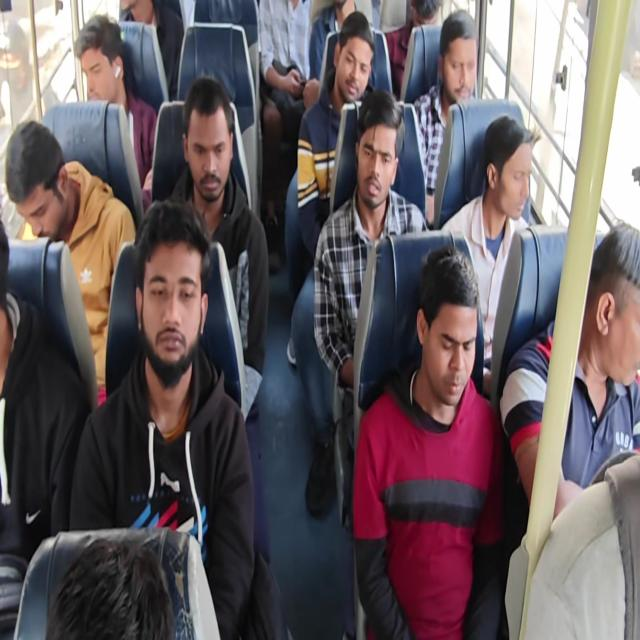person: (1, 1, 638, 638), (68, 197, 288, 638), (352, 245, 505, 638), (158, 76, 271, 559), (311, 88, 428, 514), (499, 220, 639, 522), (5, 119, 137, 406), (0, 218, 90, 638), (440, 114, 538, 394), (296, 11, 376, 258), (73, 14, 157, 201), (412, 9, 479, 226), (257, 0, 319, 232), (46, 536, 176, 639), (118, 0, 184, 101), (384, 0, 442, 98), (309, 0, 356, 82)
